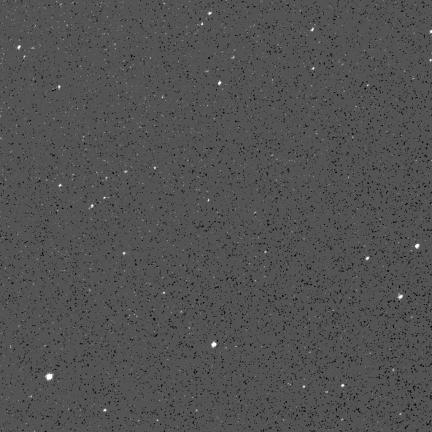blob: (46, 373, 53, 380), (398, 294, 403, 299), (341, 384, 346, 388), (17, 46, 22, 50), (59, 184, 63, 188), (415, 244, 419, 248), (218, 81, 221, 85), (365, 257, 369, 260)
